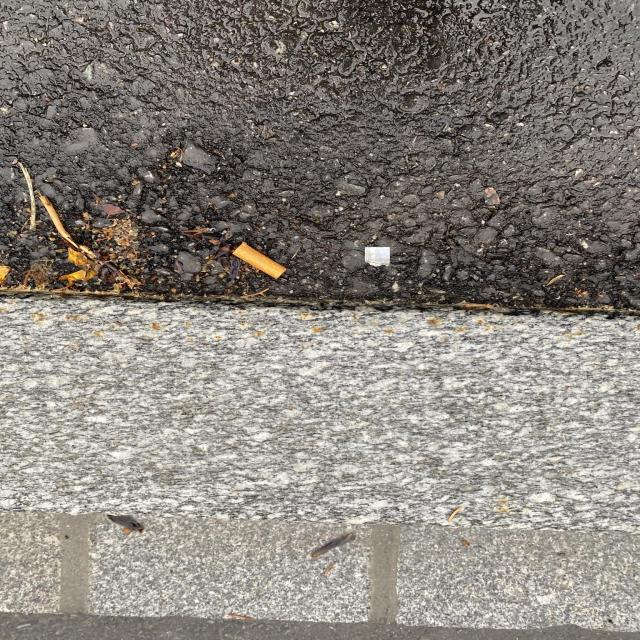other waste: (232, 241, 287, 280)
